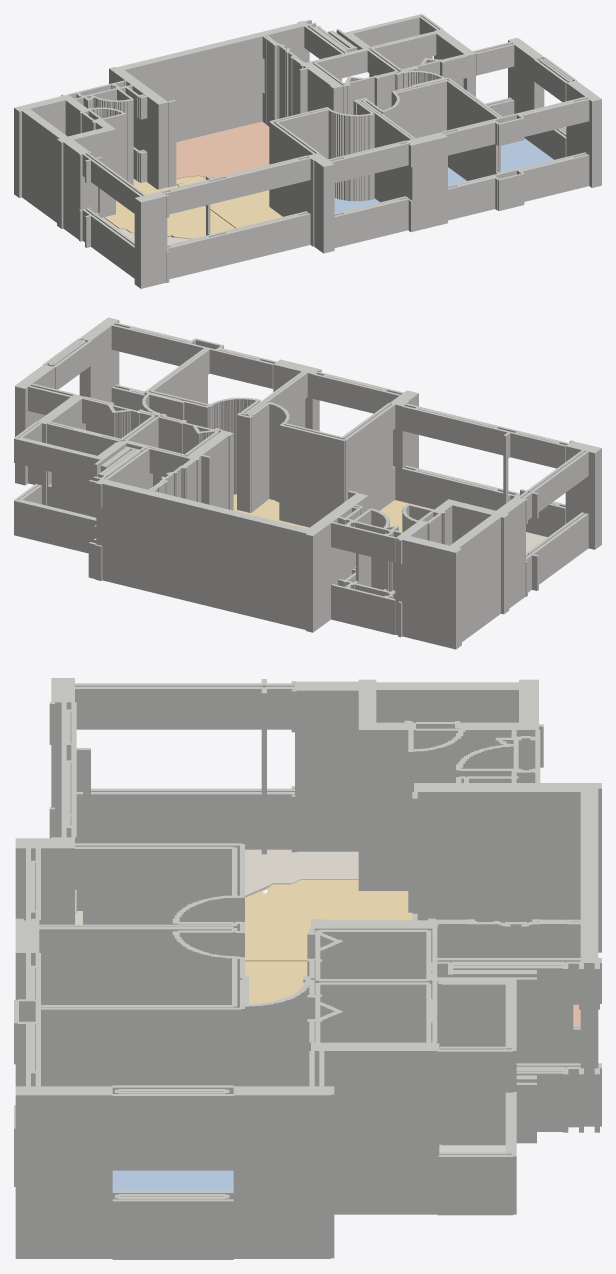
3 renders of one model, top to bottom at view 1: azimuth 30°, elevation 25°; view 2: azimuth 150°, elevation 25°; view 3: azimuth 270°, elevation 25°, orthographic. The views are drawn at different scales.
Visible parts, largest first — view 1: walls, room:kitchen:13, room:living:4, room:living:5, room:bedroom:2, room:bedroom:1; view 2: walls, room:living:5; view 3: walls, room:living:4, room:other:3, room:bedroom:2, room:living:5.
Boxes of the visible parts, left/top/right/bottom form: walls: left=14, top=14, right=601, bottom=288; room:kitchen:13: left=176, top=121, right=269, bottom=179; room:living:4: left=104, top=179, right=235, bottom=239; room:living:5: left=176, top=176, right=282, bottom=228; room:bedroom:2: left=501, top=138, right=553, bottom=172; room:bedroom:1: left=334, top=198, right=379, bottom=213; walls: left=14, top=317, right=601, bottom=649; room:living:5: left=233, top=494, right=433, bottom=531; walls: left=14, top=678, right=601, bottom=1259; room:living:4: left=245, top=880, right=412, bottom=961; room:other:3: left=77, top=849, right=358, bottom=924; room:bedroom:2: left=112, top=1170, right=233, bottom=1190; room:living:5: left=245, top=961, right=307, bottom=1004.
Bounding box in the file's own units: 15.32 × 2.8 × 9.11.
